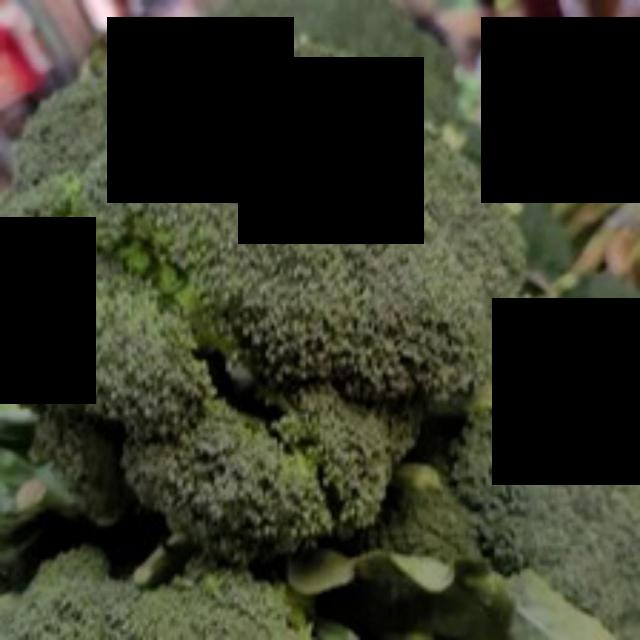broccoli: (0, 39, 528, 568)
